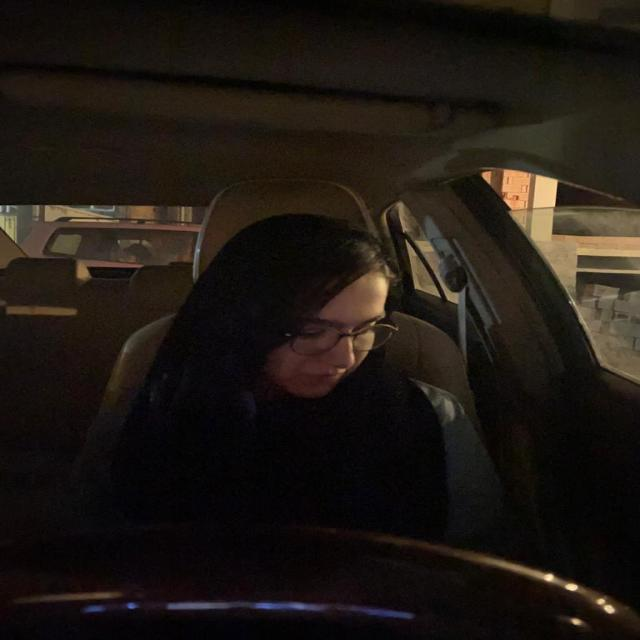drowsy: (237, 222, 399, 408)
